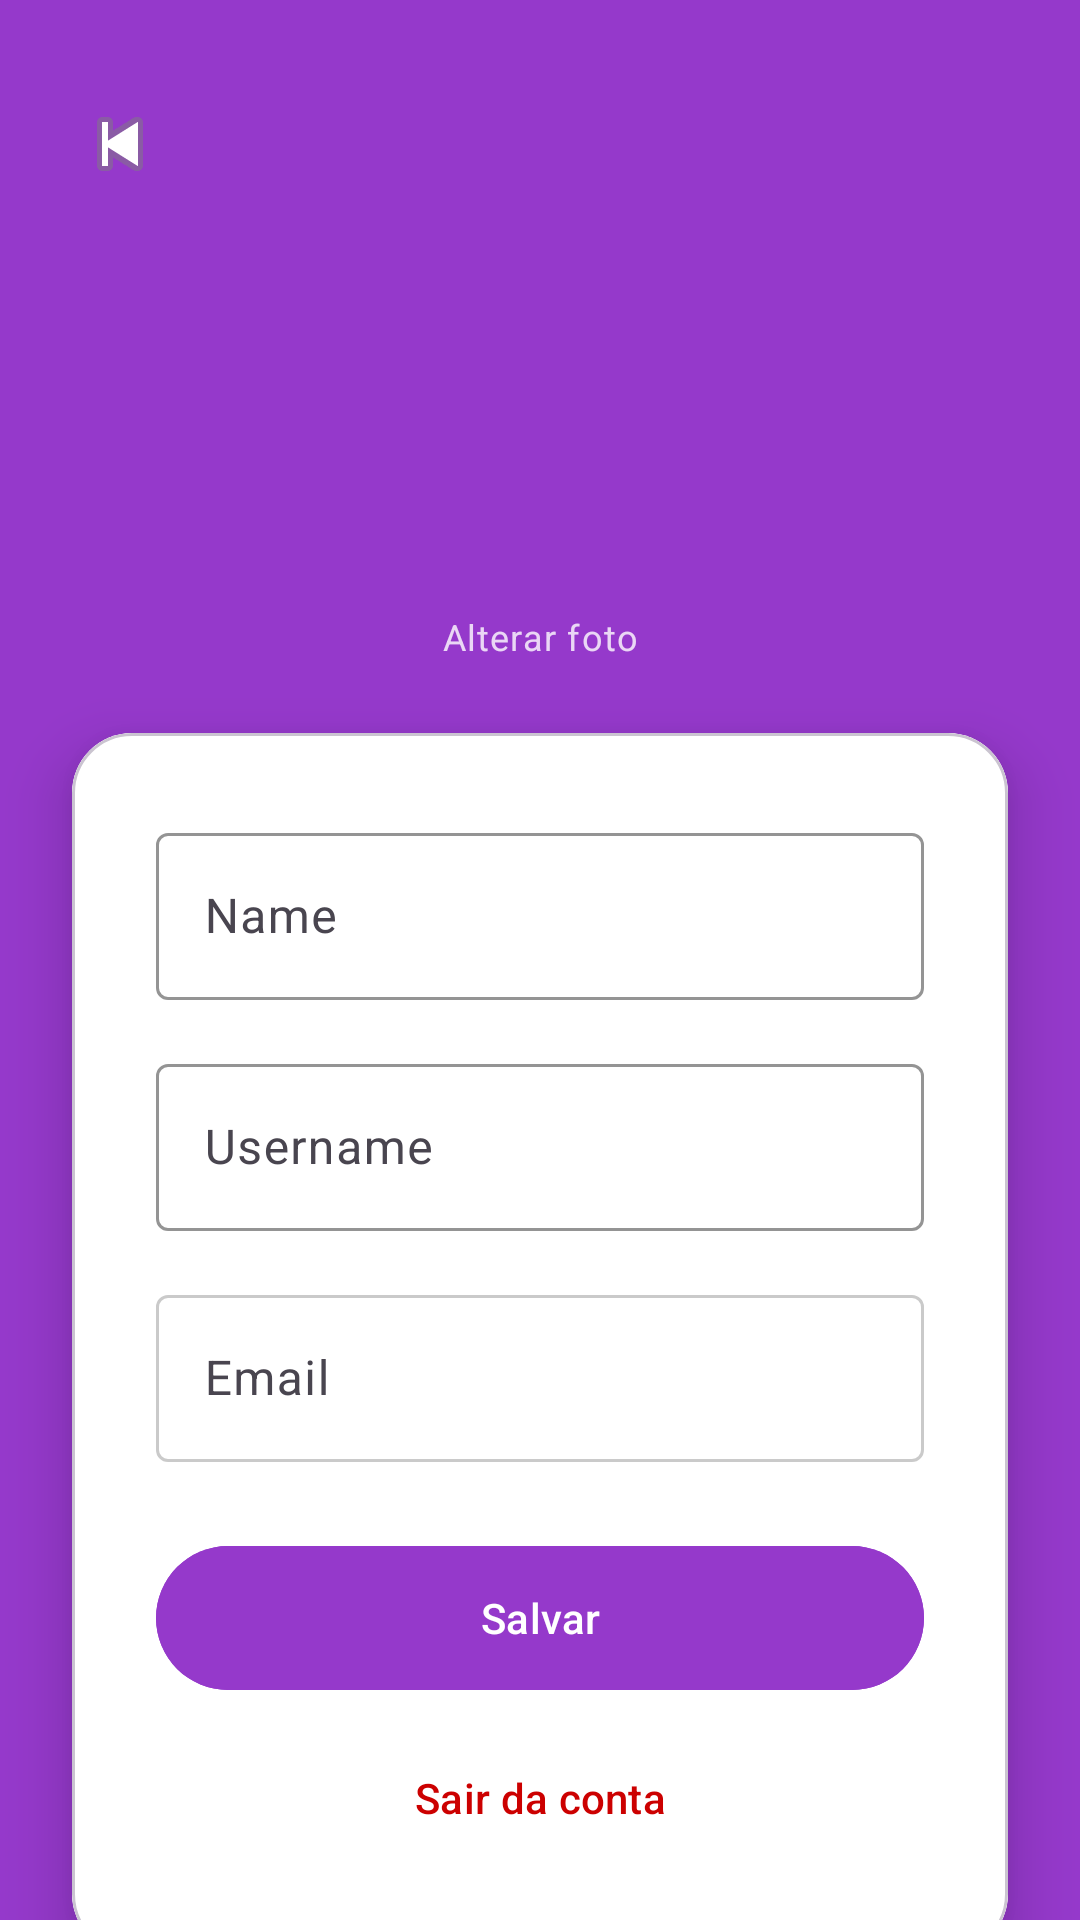

Named icons in this screenshot (1080*1920) and their bounding boxes, (x1=x1, y1=y1, x2=x2, y2=y2):
Voltar: (x1=97, y1=117, x2=143, y2=171)
